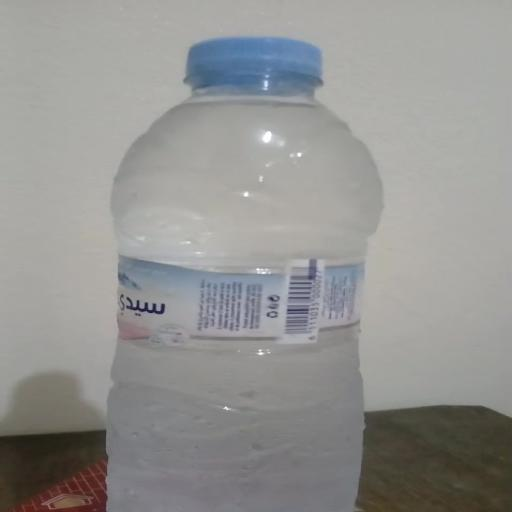bouteille conformite: (108, 37, 381, 511)
